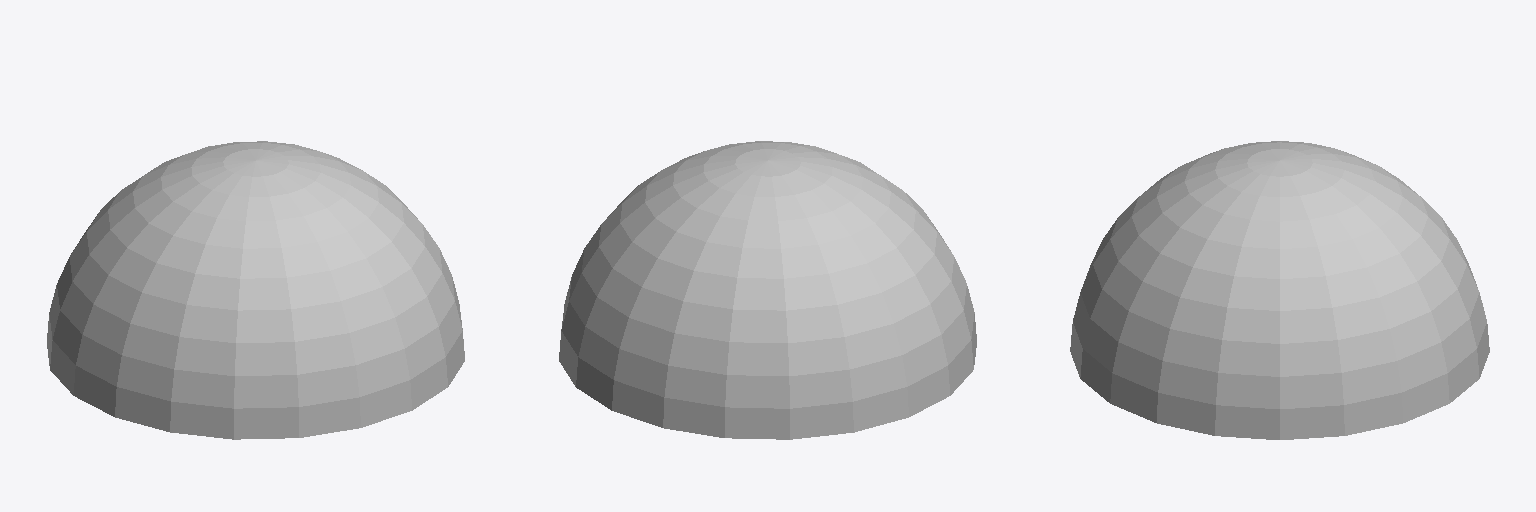
Rendered from burbuja2.obj.
The picture shows the model from 3 angles: view 1: azimuth 30°, elevation 25°; view 2: azimuth 150°, elevation 25°; view 3: azimuth 270°, elevation 25°; orthographic projection.
Parts seen in each view (by area): view 1: pasted__polySurface4 pasted__pSphere2 group3; view 2: pasted__polySurface4 pasted__pSphere2 group3; view 3: pasted__polySurface4 pasted__pSphere2 group3.
Part boxes in pixels (x1,y1,x2,y2): pasted__polySurface4 pasted__pSphere2 group3: (47, 141, 464, 439); pasted__polySurface4 pasted__pSphere2 group3: (559, 141, 976, 439); pasted__polySurface4 pasted__pSphere2 group3: (1070, 141, 1489, 439).
Bounding box in the file's own units: 1.8 × 0.899 × 1.79.